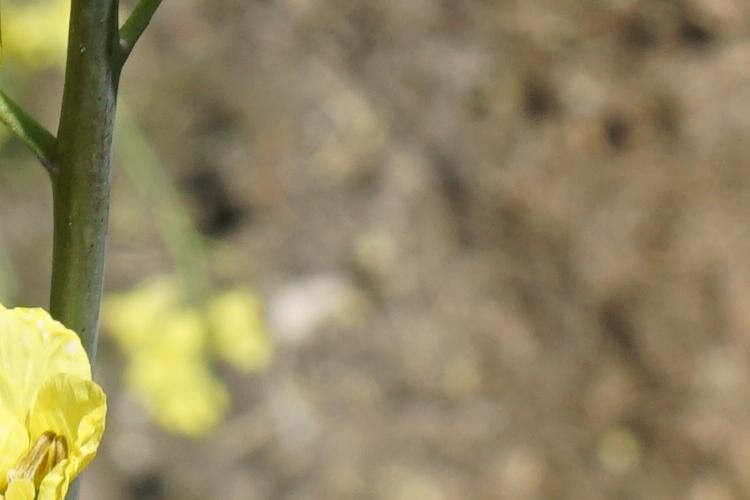yellow: (1, 297, 120, 494)
